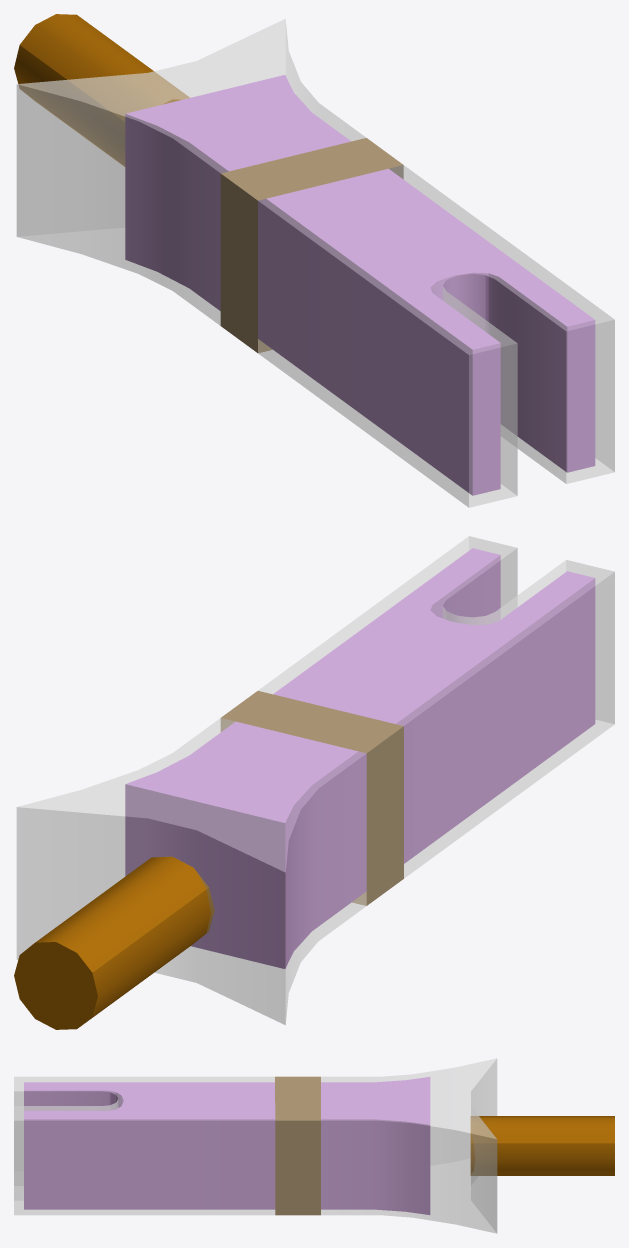
File: Bottled Ecas Cisc Asca.fbx
3 renders of one model, top to bottom at view 1: azimuth 30°, elevation 25°; view 2: azimuth 150°, elevation 25°; view 3: azimuth 270°, elevation 25°, orthographic. The views are drawn at different scales.
Parts seen in each view (by area): view 1: Bottled Ecas Cisc Asca; view 2: Bottled Ecas Cisc Asca; view 3: Bottled Ecas Cisc Asca.
Part boxes in pixels (left/top/right/bottom): Bottled Ecas Cisc Asca: left=14, top=14, right=614, bottom=507; Bottled Ecas Cisc Asca: left=14, top=536, right=614, bottom=1029; Bottled Ecas Cisc Asca: left=14, top=1058, right=614, bottom=1233.
Bounding box in the file's own units: 18.43 × 10 × 57.69.
